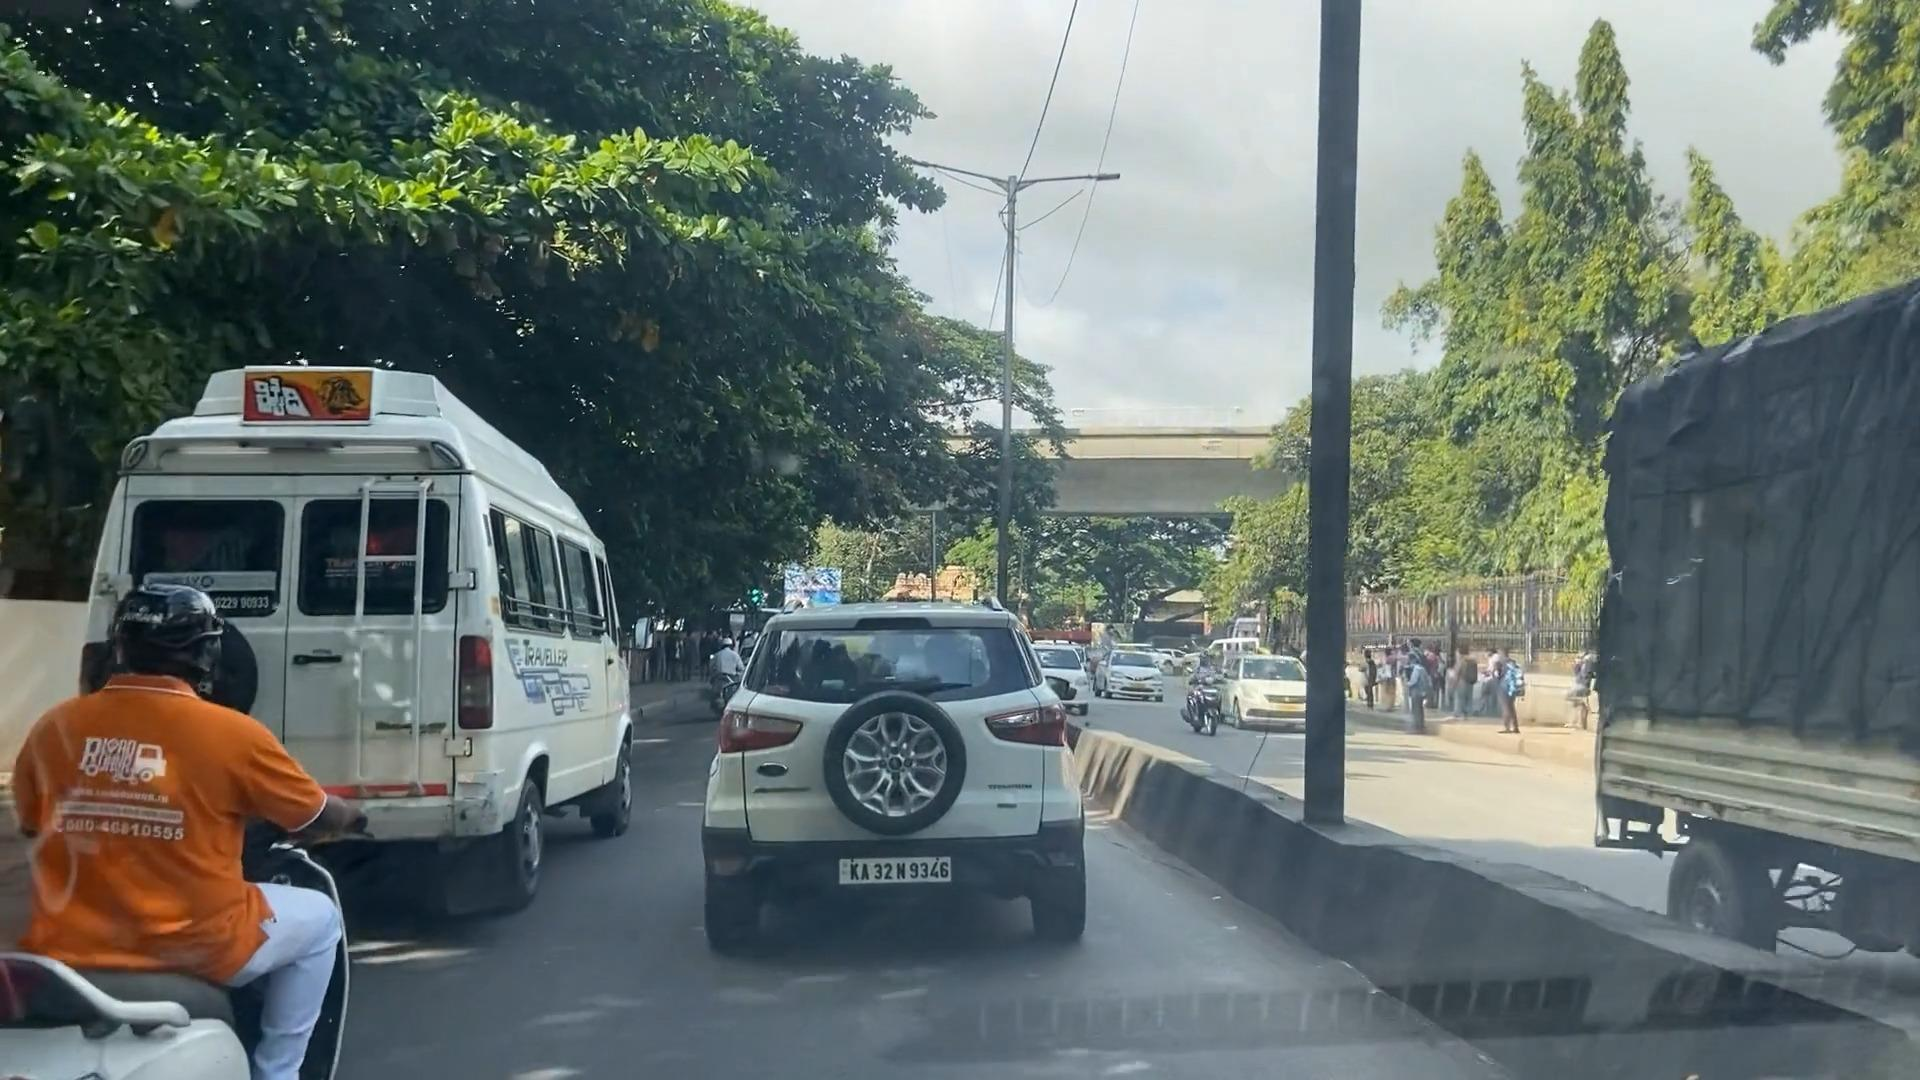HMV: (69, 356, 616, 932)
LMV: (720, 646, 1071, 968)
